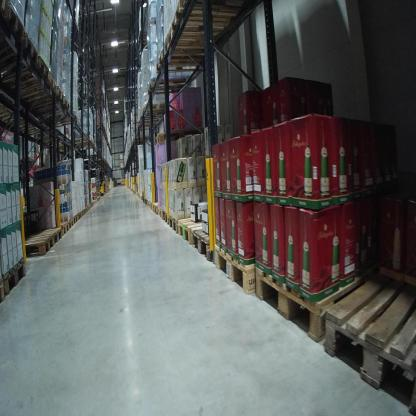pallet: (325, 260, 414, 413), (255, 248, 368, 348), (149, 129, 220, 211), (213, 238, 262, 298), (159, 23, 241, 56), (170, 2, 251, 35), (1, 31, 38, 86), (1, 55, 49, 97), (153, 45, 215, 72), (16, 73, 58, 108), (1, 5, 25, 64), (25, 86, 65, 119), (189, 226, 218, 265), (144, 74, 193, 95), (178, 214, 210, 246), (3, 257, 27, 299), (39, 97, 71, 122), (23, 234, 55, 258), (33, 227, 64, 246), (137, 103, 174, 117), (50, 114, 81, 129), (170, 216, 182, 235), (74, 137, 93, 146), (1, 1, 9, 22), (59, 221, 71, 234), (163, 209, 170, 228), (154, 201, 163, 215), (158, 205, 165, 222), (1, 278, 5, 303), (76, 209, 83, 220), (73, 213, 78, 225), (69, 217, 74, 228), (26, 154, 32, 163), (81, 206, 86, 216), (32, 158, 37, 164)
